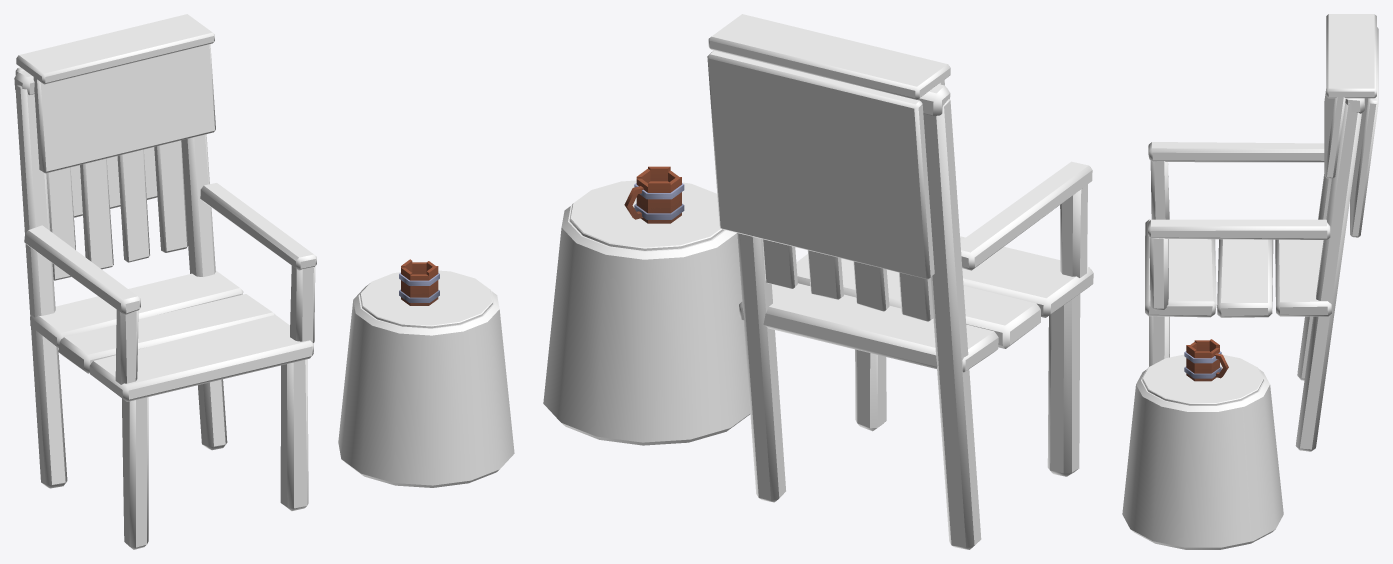
The model's file is opas_stuhl.glb.
3 views of the same model, side by side, from view 1: azimuth 30°, elevation 25°; view 2: azimuth 150°, elevation 25°; view 3: azimuth 270°, elevation 25° (orthographic). The views are drawn at different scales.
Visible parts, largest first — view 1: opas_stuhl_netz, mug2_netz; view 2: opas_stuhl_netz, mug2_netz; view 3: opas_stuhl_netz, mug2_netz.
Boxes of the visible parts, box(x1,y1,x2,y2) form: opas_stuhl_netz: box(14, 14, 514, 549); mug2_netz: box(399, 259, 439, 305); opas_stuhl_netz: box(543, 14, 1093, 549); mug2_netz: box(624, 166, 684, 223); opas_stuhl_netz: box(1122, 14, 1378, 549); mug2_netz: box(1184, 339, 1228, 381).
Size of what is drawn, in the model's own units: 1.18 by 1.12 by 0.7075.
5 materials, 1 textured.
